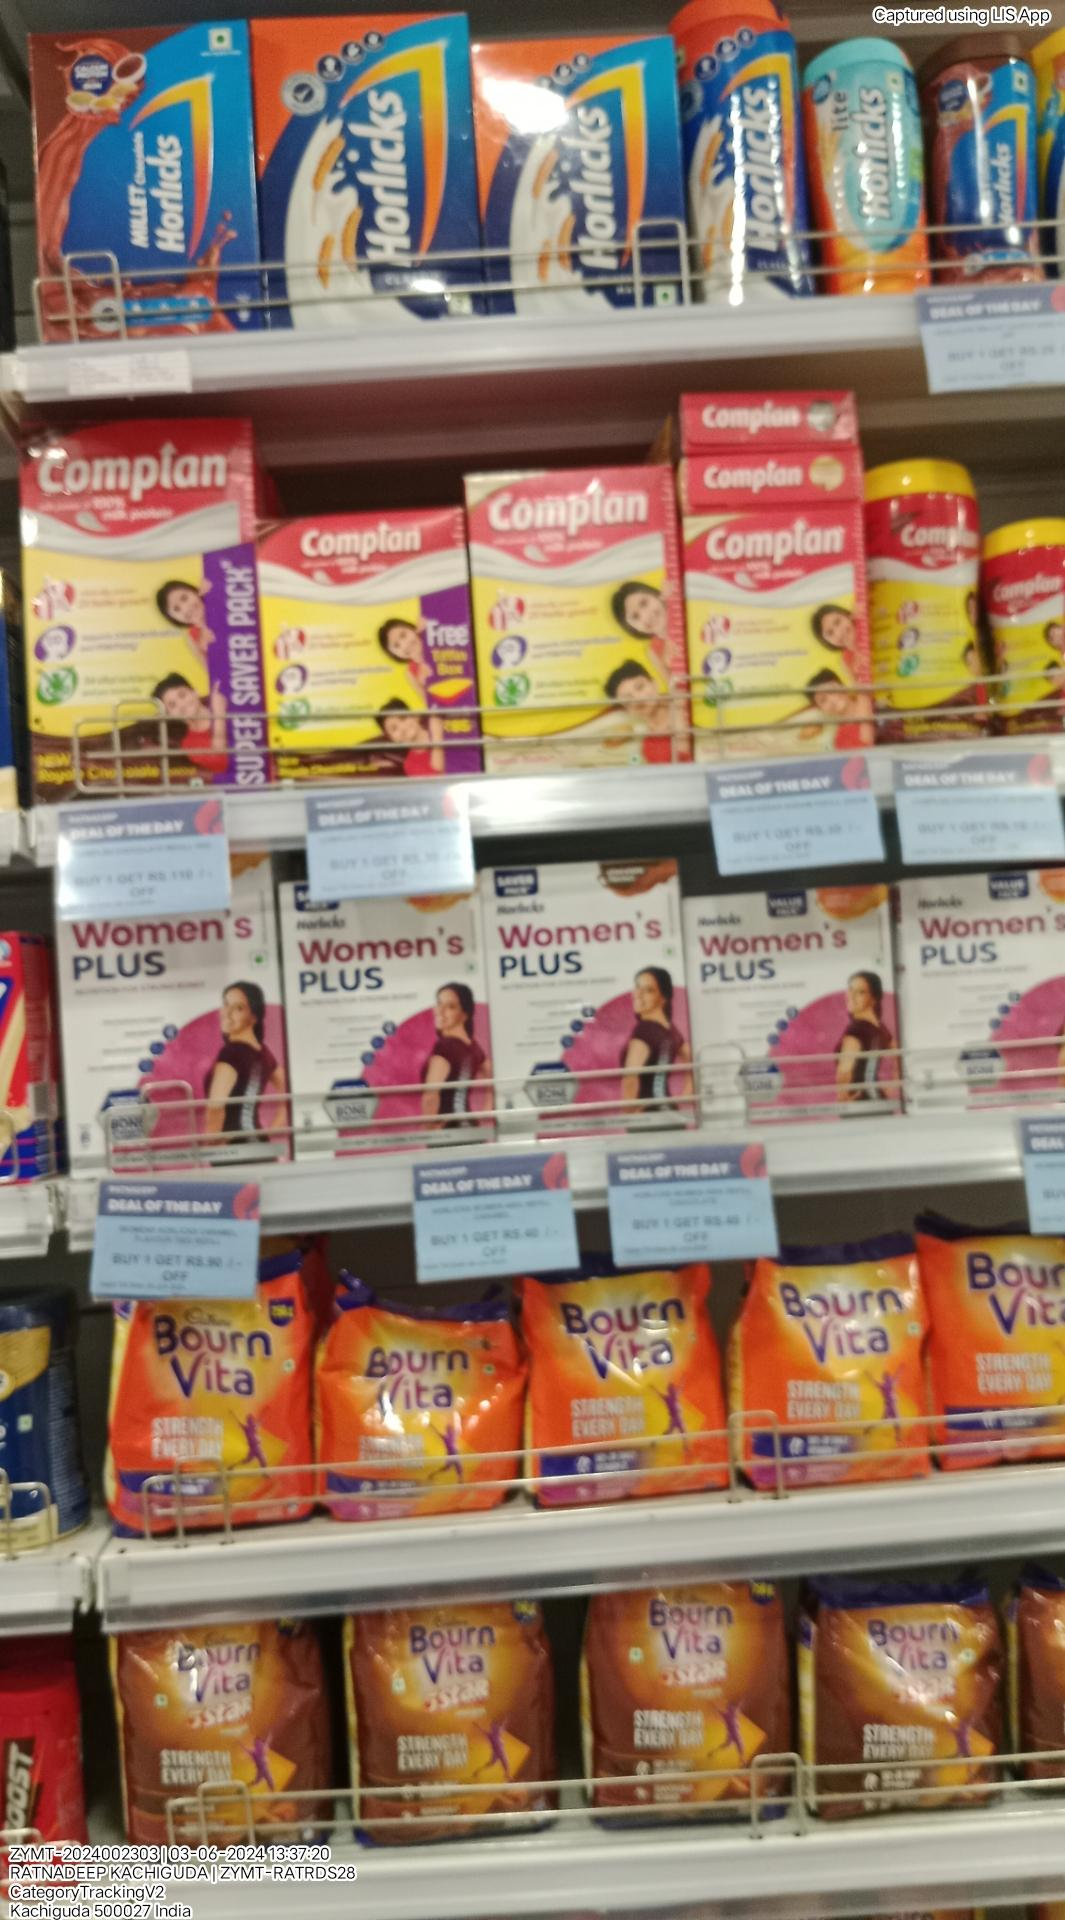BOURN_VITA_500_G_POUCH: (525, 1281, 724, 1496), (750, 1262, 927, 1487), (940, 1239, 1065, 1475)
BOURN_VITA_750_G_POUCH: (115, 1297, 316, 1529), (321, 1285, 508, 1517)
BOURN_VITA_FIVE_STAR_MAGIC_750_G_POUCH: (804, 1584, 1006, 1818), (599, 1584, 786, 1831), (342, 1616, 555, 1823), (111, 1629, 323, 1831)
COMPLAN_CHOCOLATE_1_KG_PACK: (16, 425, 256, 799), (33, 34, 260, 334), (271, 22, 487, 328), (494, 33, 691, 312)
COMPLAN_CHOCOLATE_200_GMS_PACK: (264, 521, 472, 775)
COMPLAN_KESAR_BADAM_200_GMS_PACK: (703, 506, 875, 755)
COMPLAN_KESAR_BADAM_500_GMS_PACK: (476, 466, 691, 761)
HORLICKS_LITE_REGULAR_MALT_500_GM_JAR: (817, 35, 925, 295)
